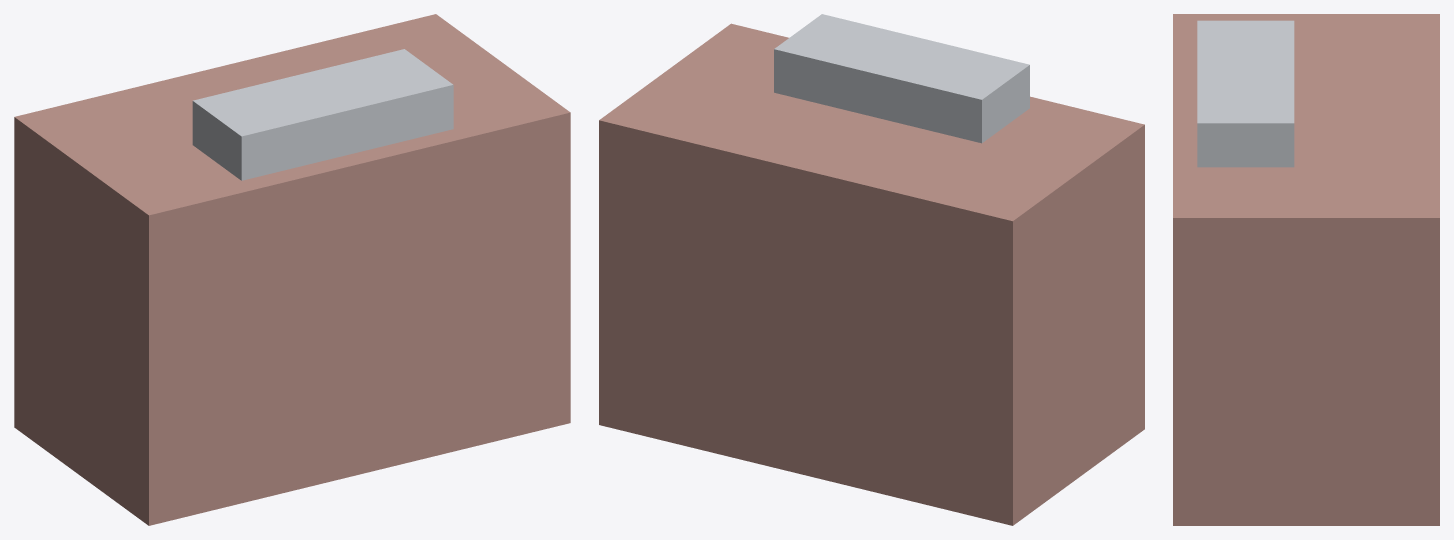
The model's file is prop.glb.
3 views of the same model, side by side, from view 1: azimuth 30°, elevation 25°; view 2: azimuth 150°, elevation 25°; view 3: azimuth 270°, elevation 25° (orthographic).
Parts seen in each view (by area): view 1: Cloth, Metal; view 2: Cloth, Metal; view 3: Cloth, Metal.
Part boxes in pixels (box(x1,y1,x2,y2)): Cloth: box(14, 14, 570, 525); Metal: box(192, 49, 453, 180); Cloth: box(599, 23, 1144, 525); Metal: box(774, 14, 1029, 143); Cloth: box(1173, 14, 1439, 525); Metal: box(1197, 20, 1294, 167).
Bounding box in the file's own units: 0.3979 × 0.32 × 0.22.
